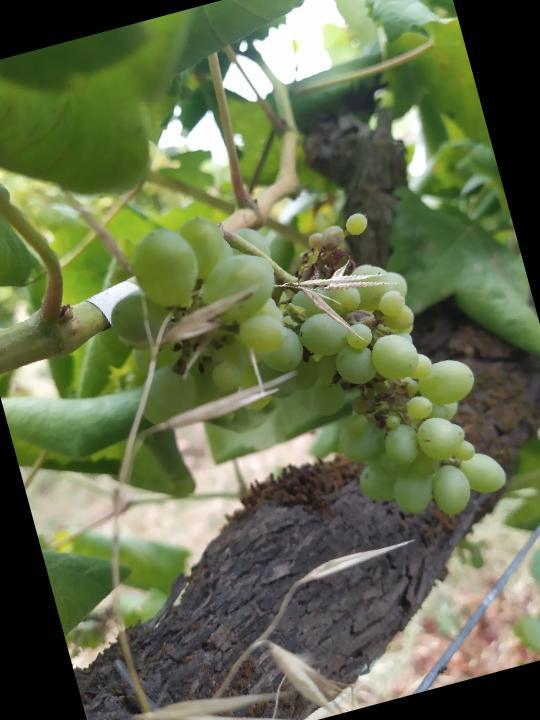grape: (87, 152, 518, 590)
